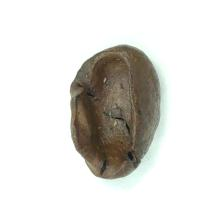NG: (73, 51, 141, 174)
